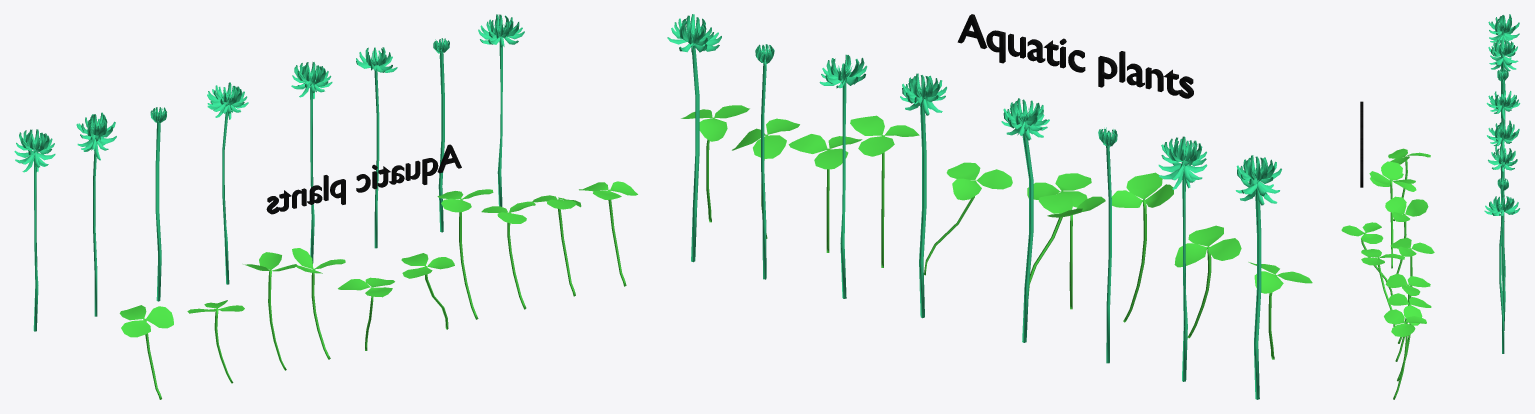
Rendered from Aquatic plants.gltf 2.gltf.
The picture shows the model from 3 angles, left to right: view 1: azimuth 30°, elevation 25°; view 2: azimuth 150°, elevation 25°; view 3: azimuth 270°, elevation 25°; orthographic projection. The views are drawn at different scales.
Visible parts, largest first — view 1: flower_A, clover_9, Text; view 2: flower_A, clover_9, Text; view 3: clover_9, flower_A, Text.
Part boxes in pixels (bbox=[...]): flower_A: bbox=[14, 14, 524, 331]; clover_9: bbox=[119, 181, 637, 399]; Text: bbox=[266, 144, 461, 214]; flower_A: bbox=[667, 14, 1281, 399]; clover_9: bbox=[681, 105, 1312, 359]; Text: bbox=[957, 14, 1193, 98]; clover_9: bbox=[1341, 148, 1434, 399]; flower_A: bbox=[1484, 14, 1520, 353]; Text: bbox=[1360, 101, 1363, 187].
Bounding box in the file's own units: 0.3724 × 0.1494 × 0.1326.
